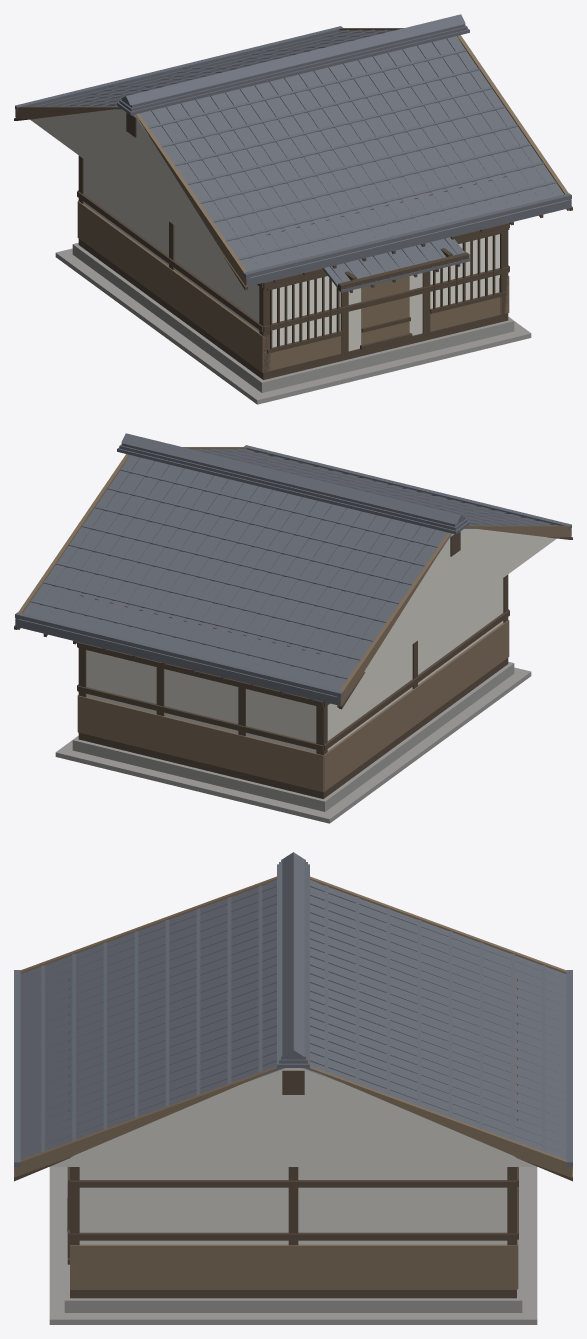
Rendered from machiya_f_s.glb.
The picture shows the model from 3 angles, top to bottom: view 1: azimuth 30°, elevation 25°; view 2: azimuth 150°, elevation 25°; view 3: azimuth 270°, elevation 25°; orthographic projection. The views are drawn at different scales.
Visible parts, largest first — view 1: machiya_f_s; view 2: machiya_f_s; view 3: machiya_f_s.
Part boxes in pixels (box(x1,y1,x2,y2)): machiya_f_s: box(14, 14, 572, 404); machiya_f_s: box(14, 433, 572, 823); machiya_f_s: box(14, 852, 572, 1324).
Size of the model in its own units: 7.2 by 4.91 by 8.5.
